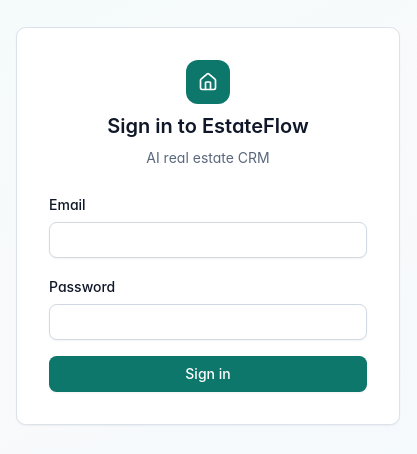
Login page › validates email before calling the API, then signs in
Later steps or results of the test are not shown.
Step 1. Type "not-an-email" into the field labelled "Email" → (208, 240), box [49,222,367,258]
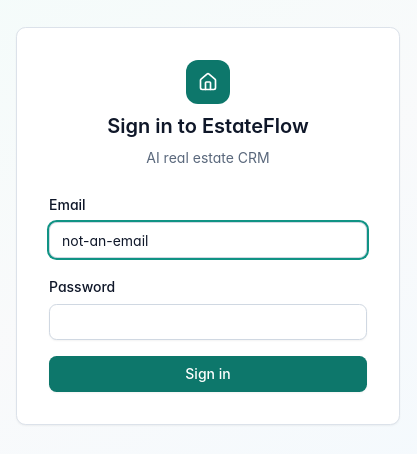
Step 2. Type "secret" into the password field labelled "Password" → (208, 322), box [49,304,367,340]
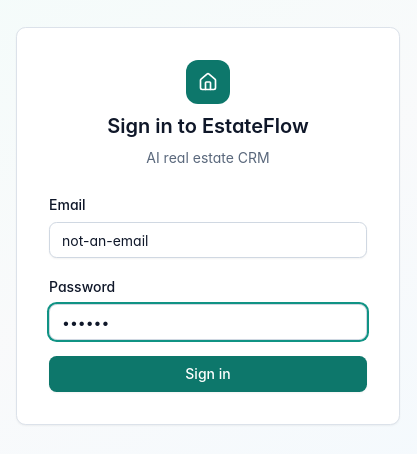
Step 3. Click the button "Sign in" → (208, 374), box [49,356,367,392]
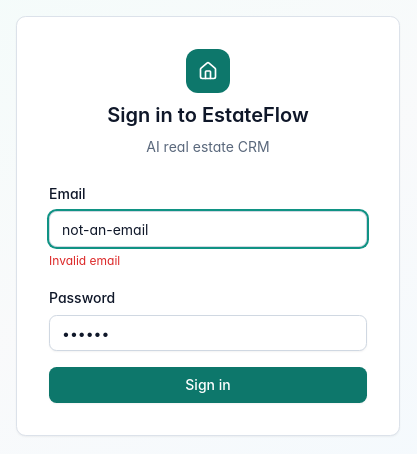
Check: the text "Invalid email" is shown, box [49,253,120,268]
